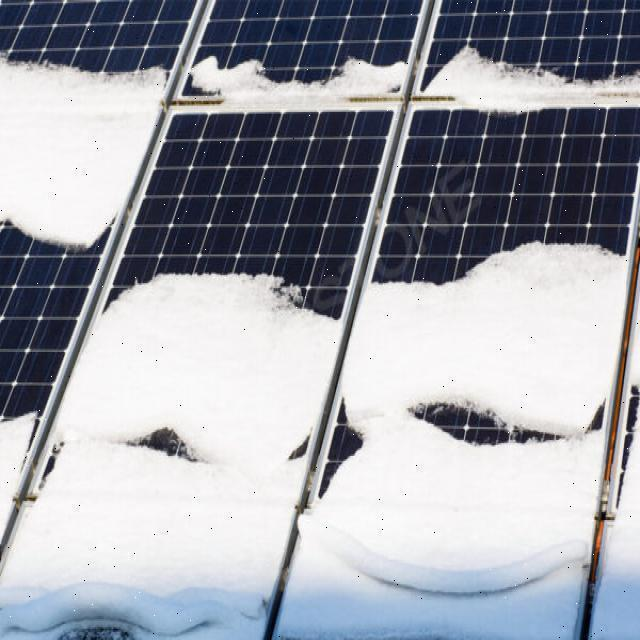Anomaly Solar Panel: (0, 0, 638, 638)
Snow: (278, 220, 630, 638), (0, 53, 166, 253), (421, 38, 639, 135), (188, 51, 404, 113), (0, 400, 38, 538)
